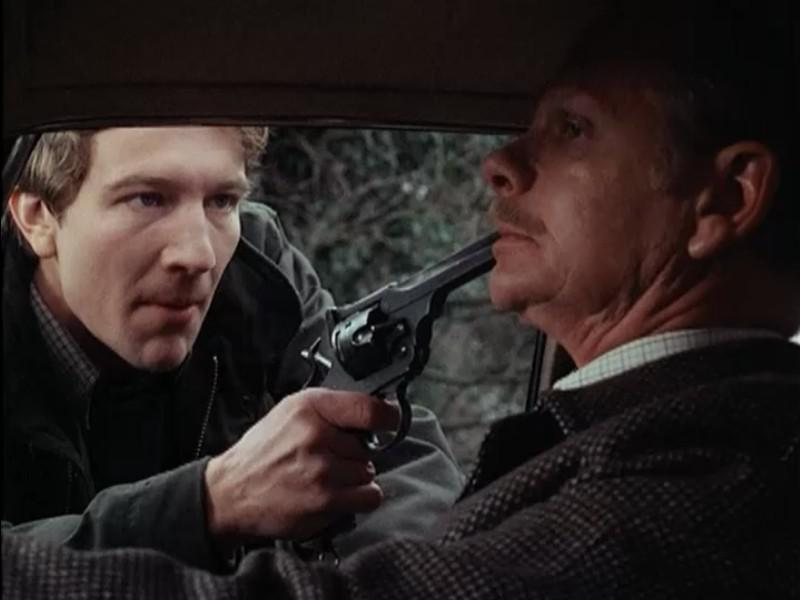gun: (273, 211, 524, 490)
